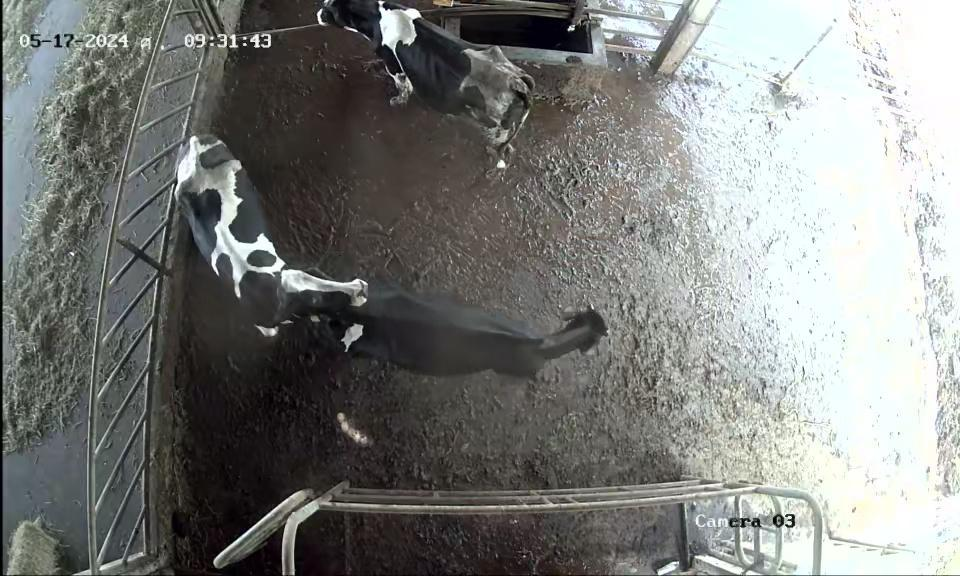propping: (244, 253, 388, 351)
stand: (359, 262, 626, 407), (312, 0, 547, 163)
